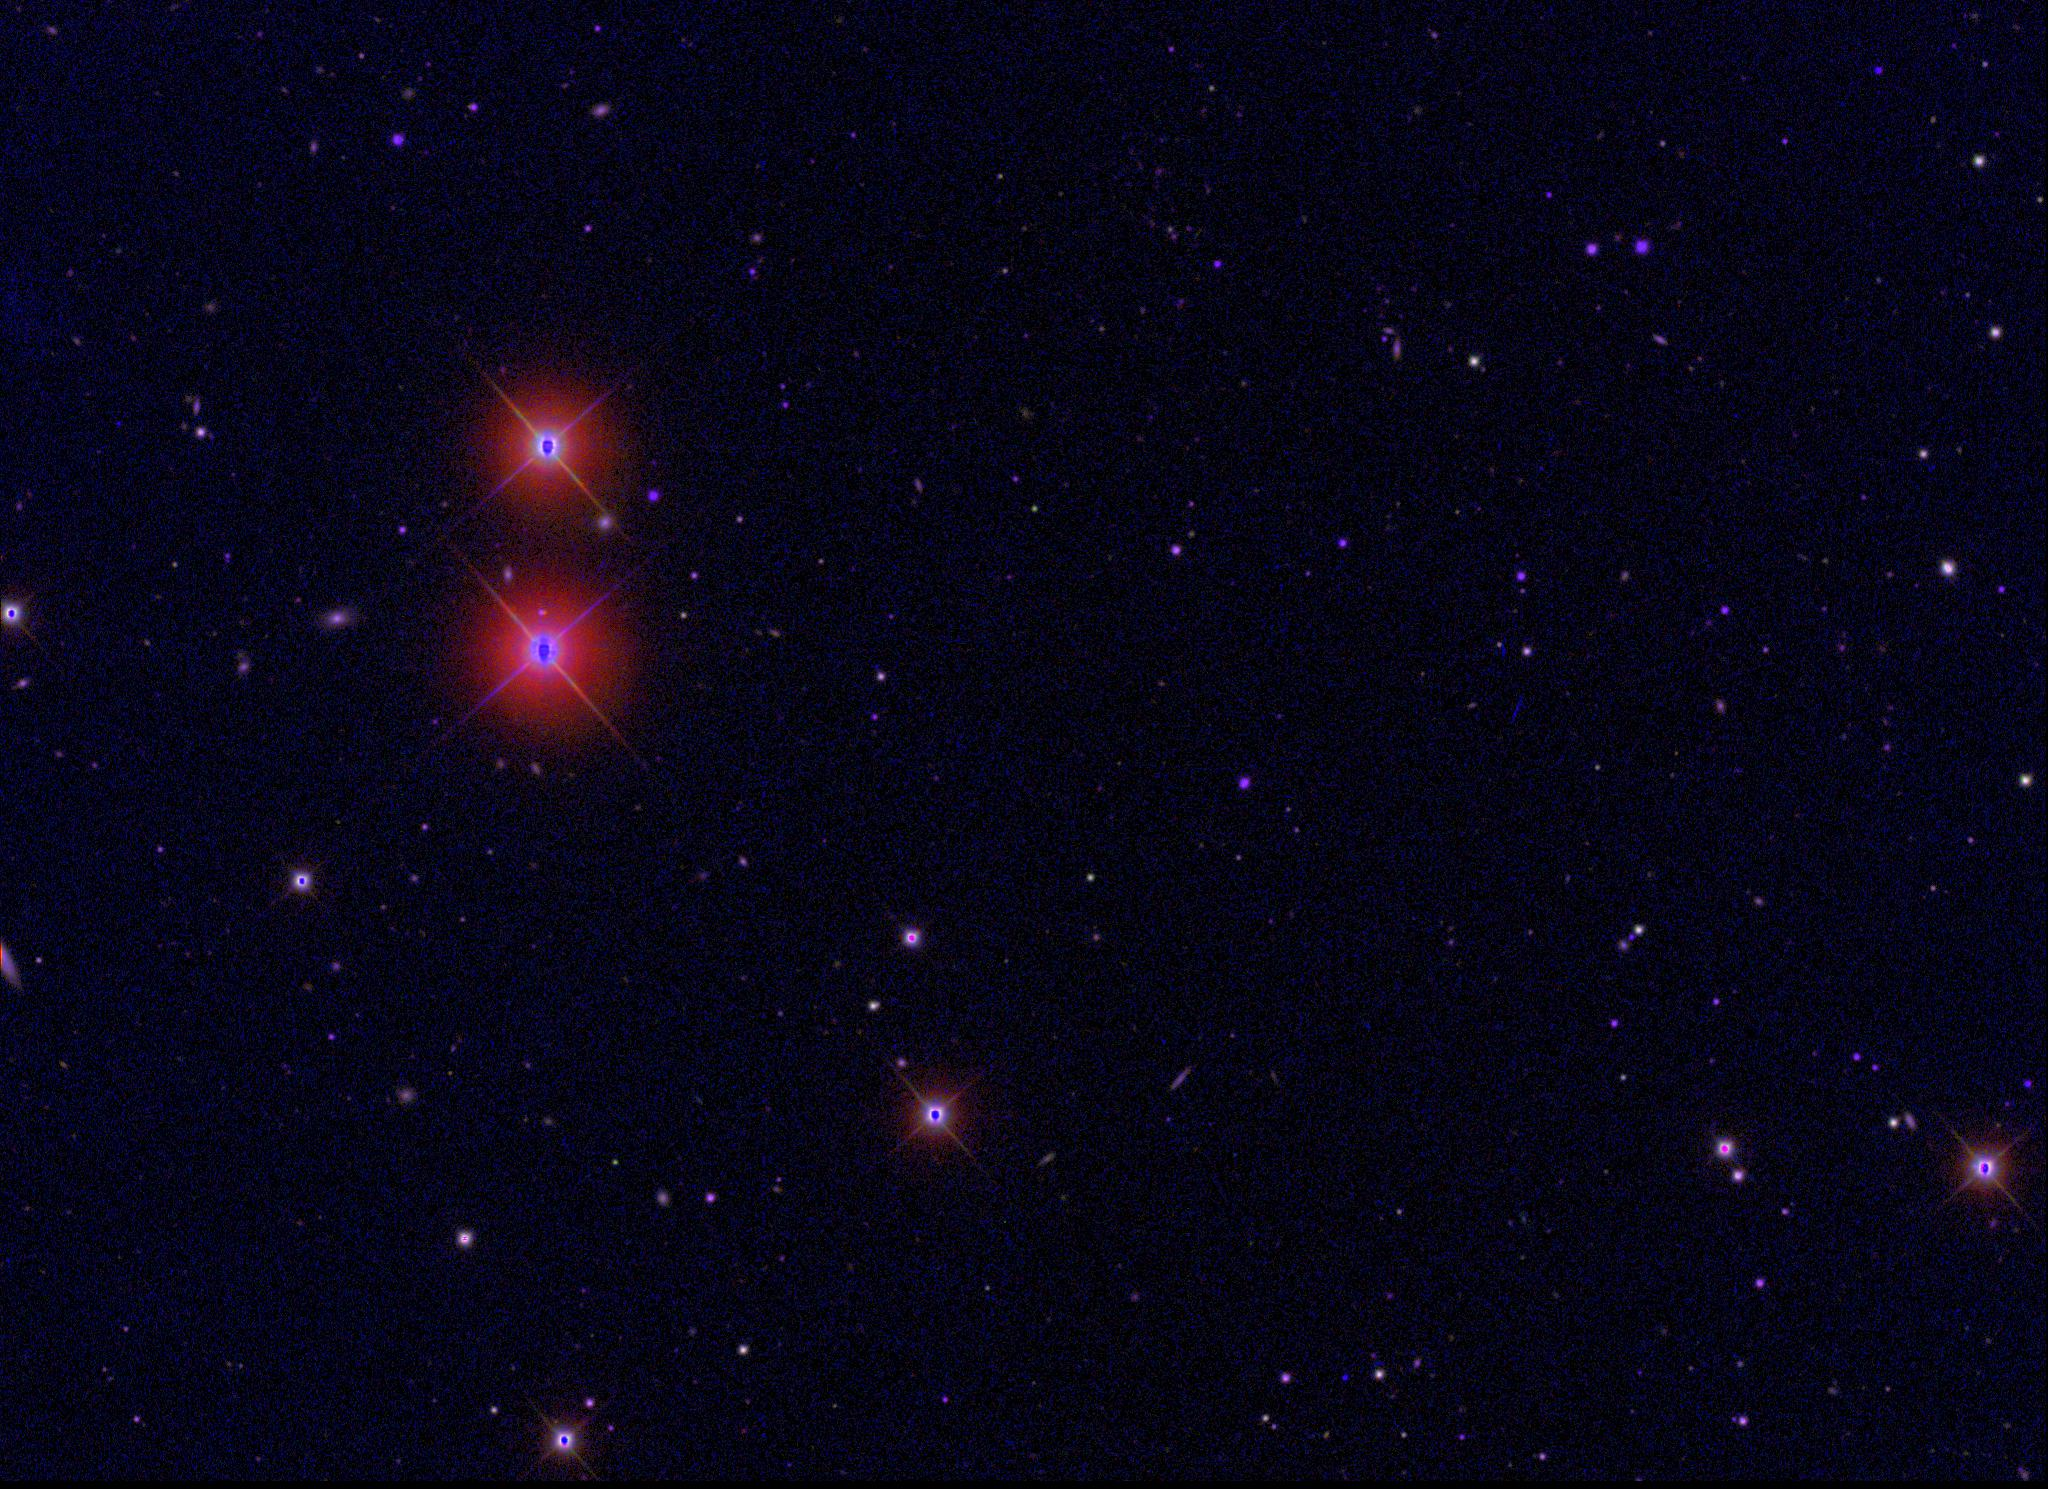L: (1337, 1371, 1352, 1386)
